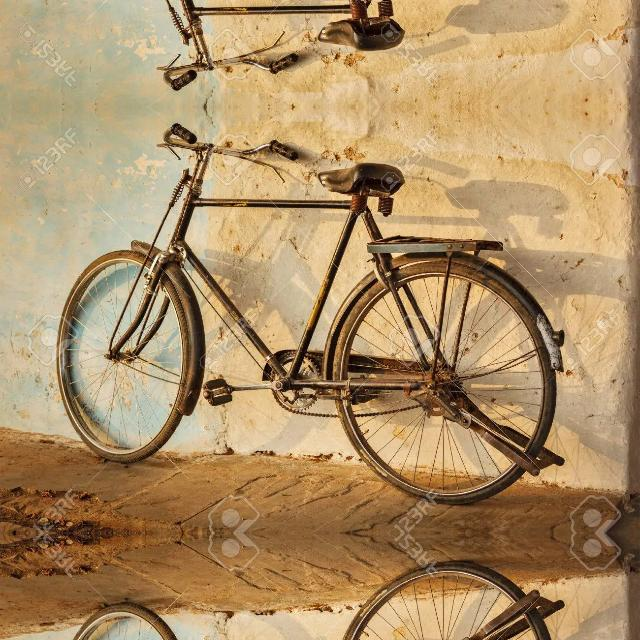obstacle: (50, 110, 592, 506), (50, 0, 592, 102), (50, 558, 592, 640)
